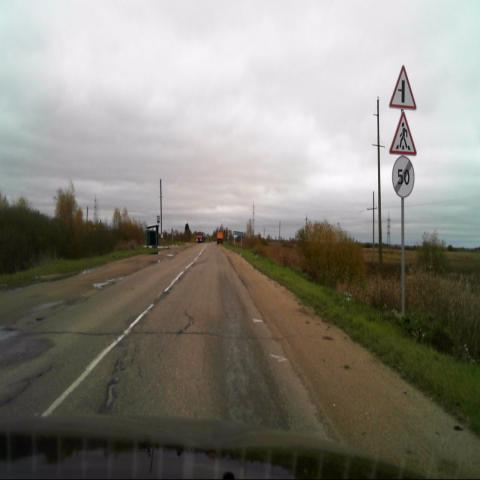2_3_3: (390, 66, 416, 110)
3_25: (392, 156, 415, 199)
